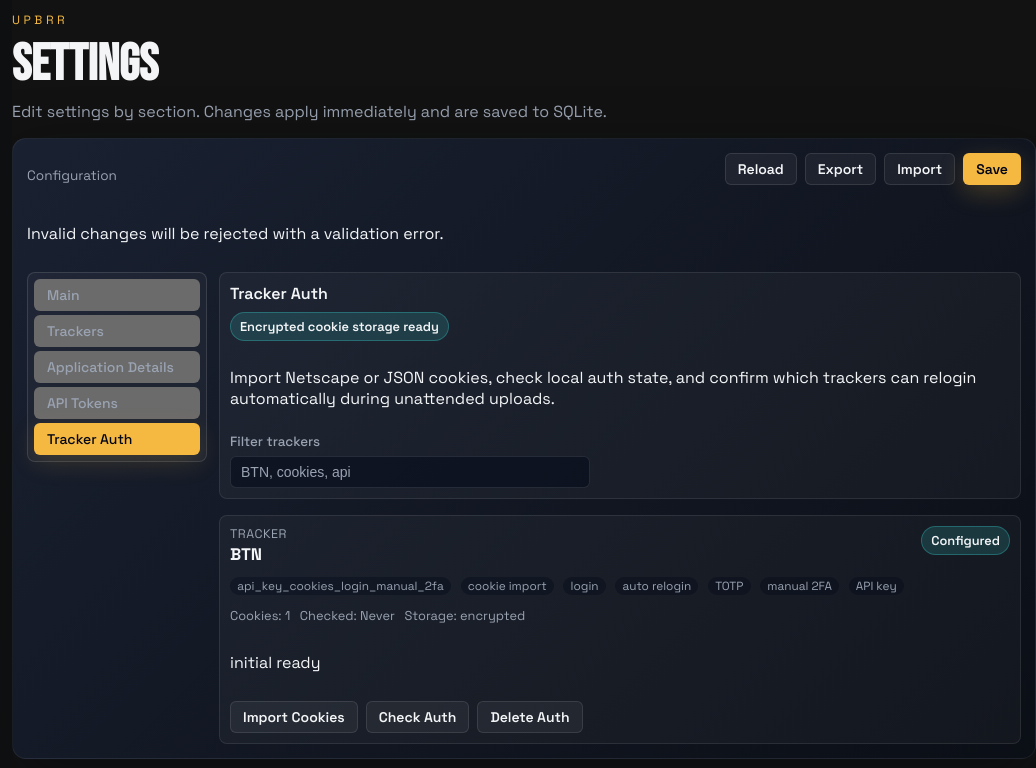
Test: SettingsPage › clears pending tracker auth action busy state after save reload
The width and height of the screenshot is (1036, 768).
Expected: the text "initial ready" is shown, [230,652,320,673]
Click the button "Check Auth".
click(418, 717)  # box [366,701,469,733]
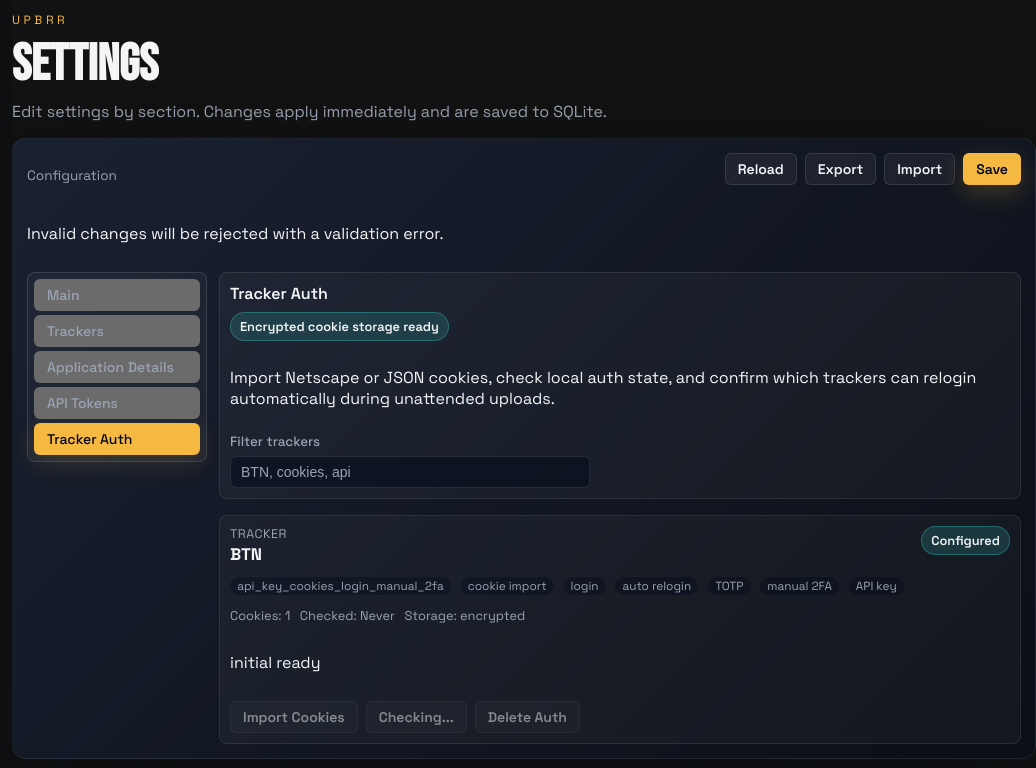
Result: the button "Checking..." is disabled at [366,701,467,733]
Click the button "Save".
click(992, 169)  # box [963,153,1021,185]
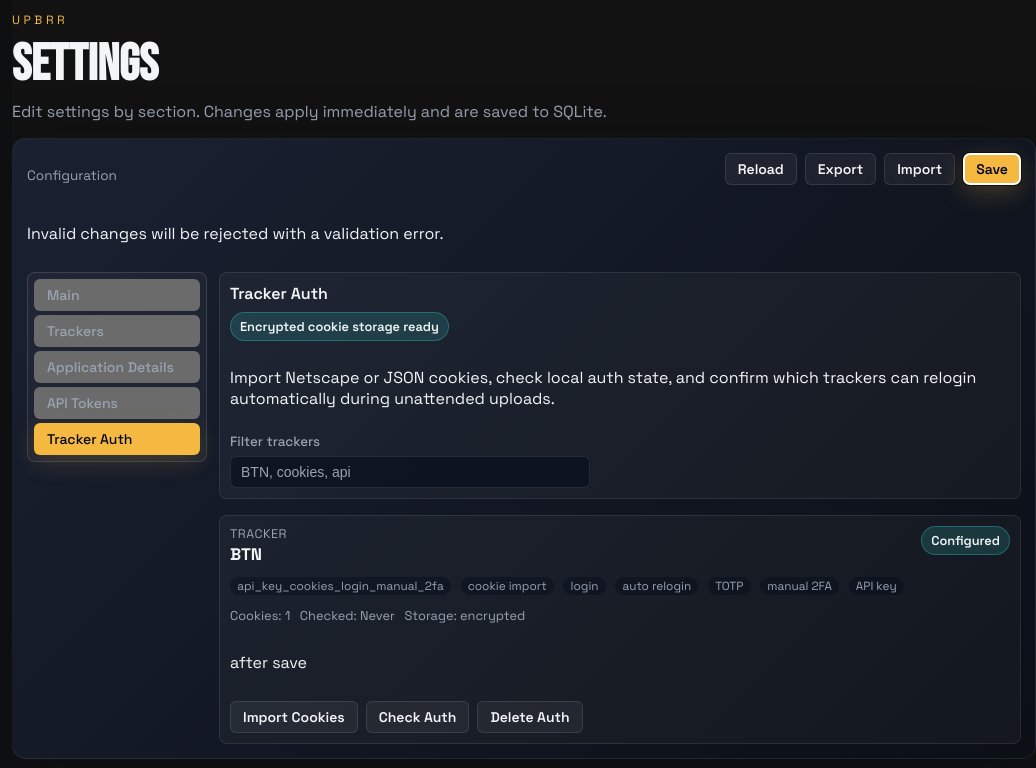
Result: the text "after save" is shown at [230,652,307,673]
Result: the button "Check Auth" is enabled at [366,701,469,733]
